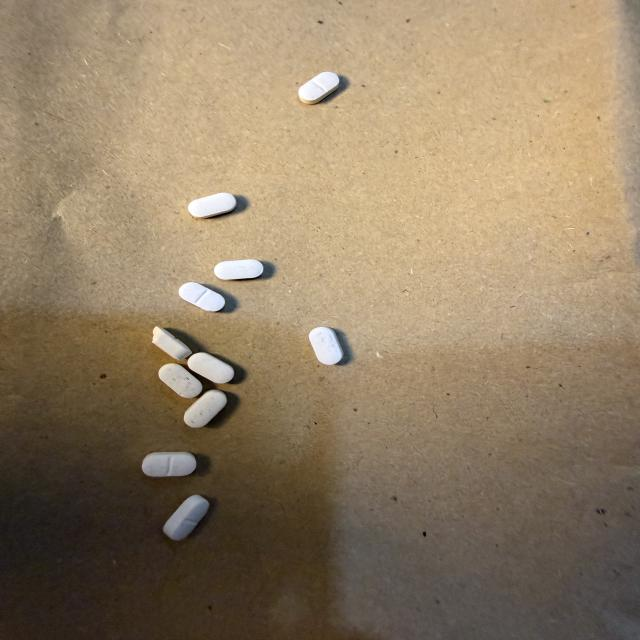pill: (163, 495, 209, 540), (184, 390, 227, 427), (159, 364, 202, 398), (188, 353, 234, 383), (142, 452, 196, 477), (152, 327, 191, 360), (299, 72, 339, 104), (179, 283, 224, 311), (309, 327, 343, 364), (188, 193, 236, 218), (214, 260, 263, 280)
